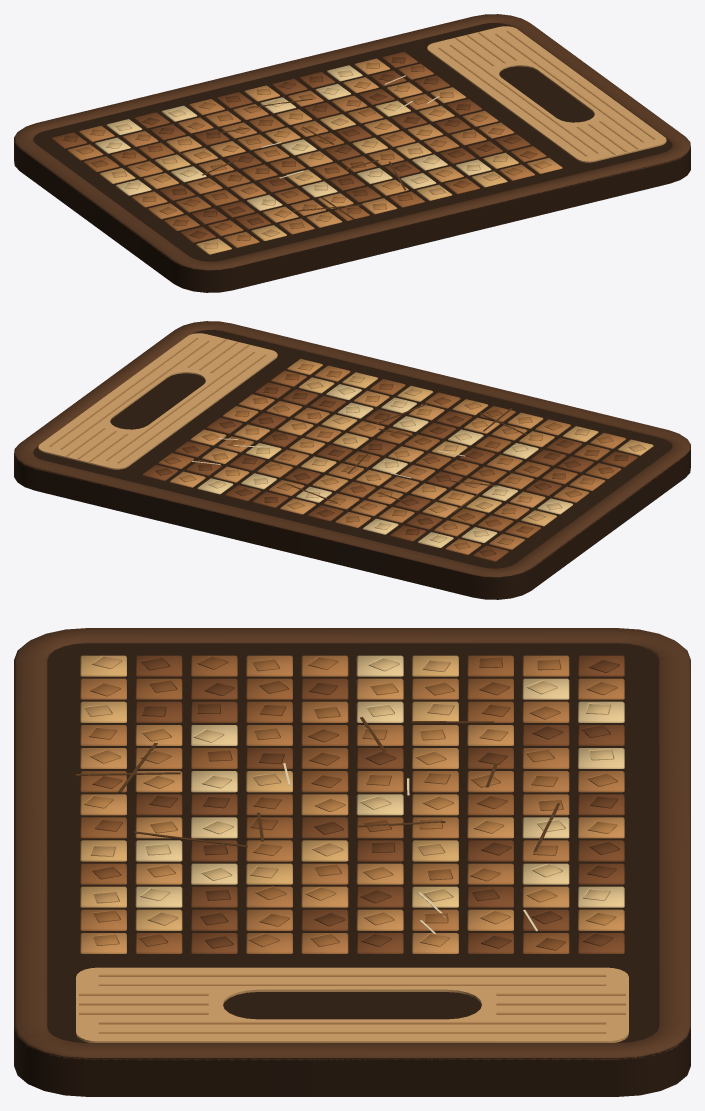
File: cutting_board.glb
3 views of the same model, one above another, from view 1: azimuth 30°, elevation 25°; view 2: azimuth 150°, elevation 25°; view 3: azimuth 270°, elevation 25° (orthographic). The views are drawn at different scales.
Visible parts, largest first — view 1: CuttingBoard; view 2: CuttingBoard; view 3: CuttingBoard.
Part boxes in pixels (x1,y1,x2,y2): CuttingBoard: (14,14,690,292); CuttingBoard: (14,321,690,599); CuttingBoard: (14,628,690,1096).
Bounding box in the file's own units: 9 × 0.407 × 6.
